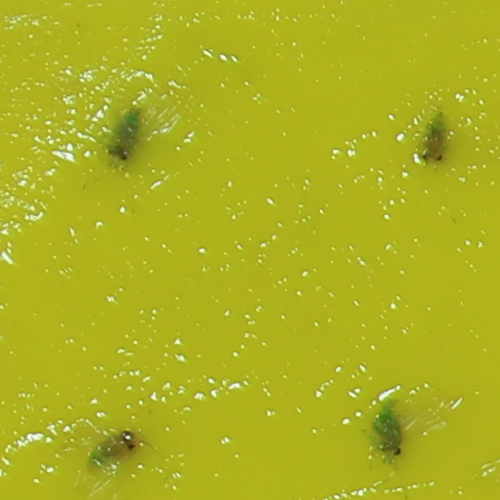Glycaspis: (88, 427, 139, 471), (106, 107, 144, 166), (371, 400, 403, 467), (418, 110, 448, 163)
